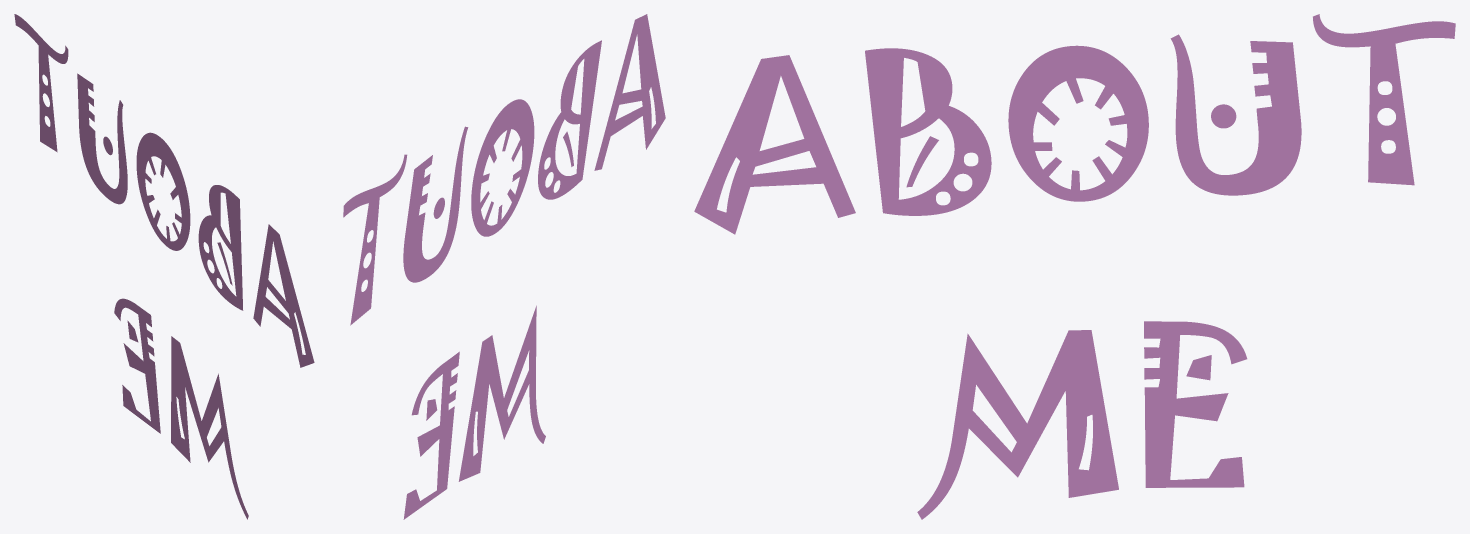
File: aboutme.glb
3 views of the same model, side by side, from view 1: azimuth 30°, elevation 25°; view 2: azimuth 150°, elevation 25°; view 3: azimuth 270°, elevation 25° (orthographic). The views are drawn at different scales.
Parts seen in each view (by area): view 1: Text.002; view 2: Text.002; view 3: Text.002.
Part boxes in pixels (x1,y1,x2,y2): Text.002: [14, 14, 314, 519]; Text.002: [343, 14, 665, 519]; Text.002: [694, 14, 1455, 519].
Bounding box in the file's own units: 0.102 × 1.19 × 1.68.
